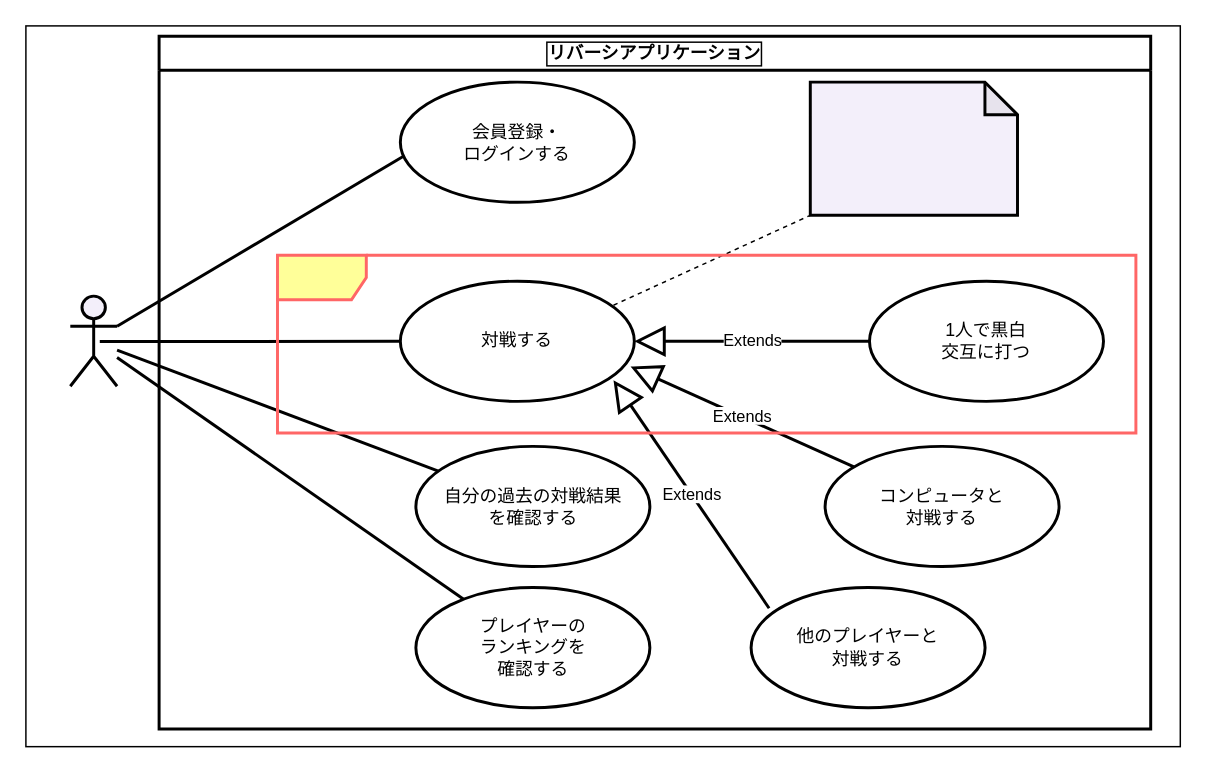
Some shapes in this 1206 by 773 pixel diagram are drawn without their labels. The shapes that lost their labels are listed below. From the top down, each one's centre as x and y in pixels, then its label:
At point (913, 148): "・対戦を確認する ・盤面を見る ・石を打つ ・勝敗を確認する".
At point (93, 340): "プレイヤー".
At point (706, 343): "実装する".
